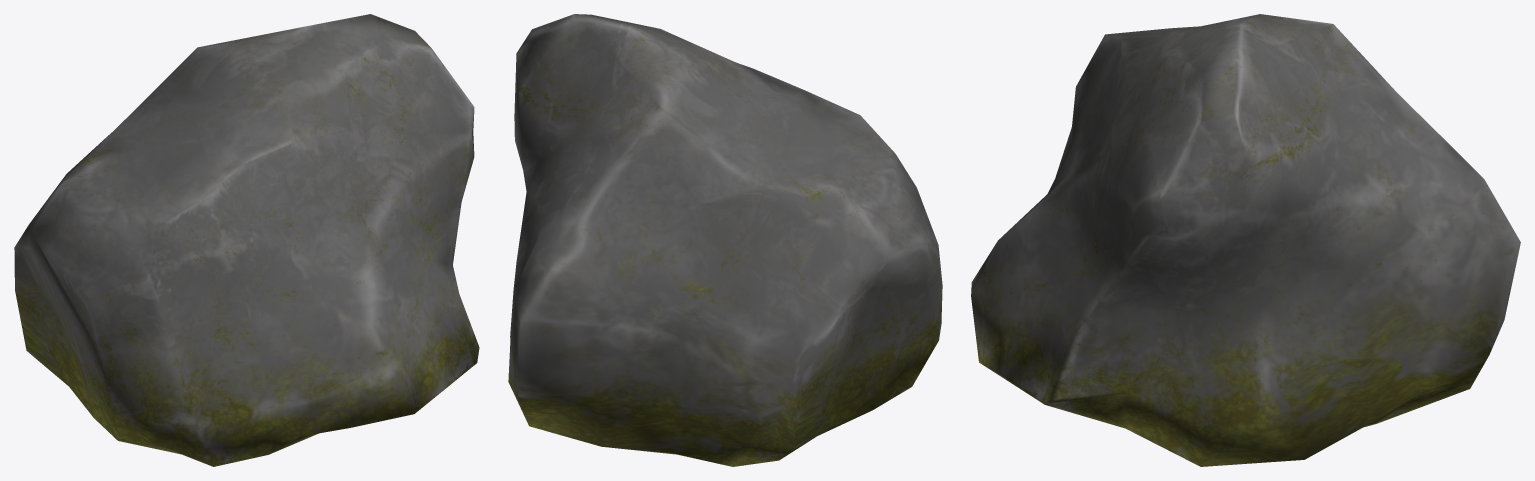
Rendered from ROK0110010.fbx.
3 views of the same model, side by side, from view 1: azimuth 30°, elevation 25°; view 2: azimuth 150°, elevation 25°; view 3: azimuth 270°, elevation 25° (orthographic). The views are drawn at different scales.
Visible parts, largest first — view 1: smROK0110010; view 2: smROK0110010; view 3: smROK0110010.
Part boxes in pixels (x1,y1,x2,y2): smROK0110010: [14, 14, 479, 466]; smROK0110010: [508, 14, 942, 466]; smROK0110010: [971, 14, 1520, 466].
Size of the model in its own units: 126 by 106 by 129.
Materials: 1 (1 with a texture image).
